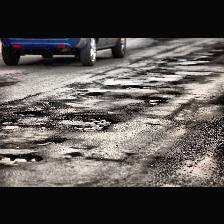pothole: (74, 116, 118, 132), (0, 150, 44, 164), (137, 95, 167, 105), (0, 119, 20, 130), (16, 109, 44, 115), (0, 80, 18, 86), (128, 85, 144, 88)
